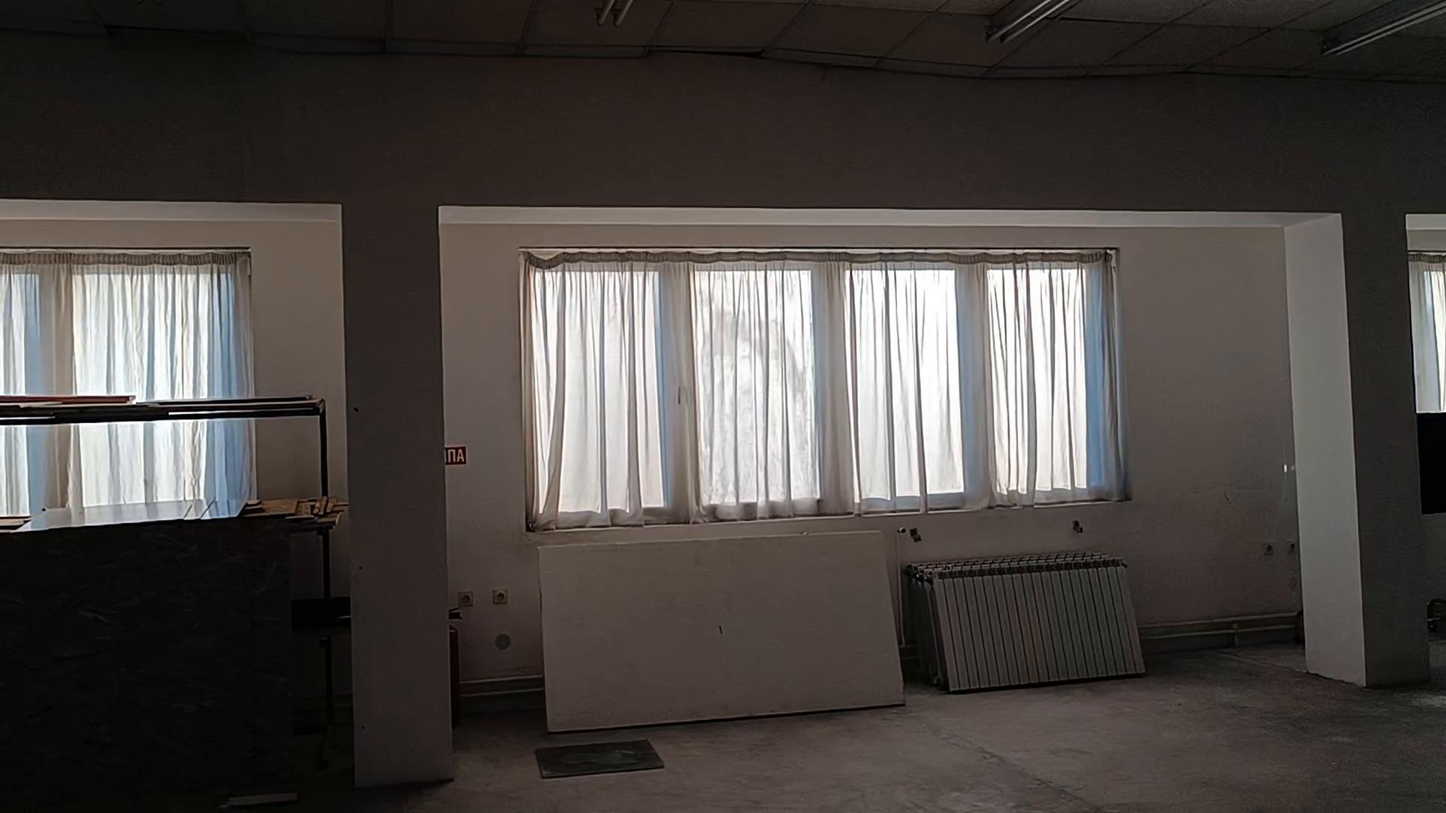ceiling: (0, 0, 1445, 81)
floor: (288, 641, 1445, 812)
wall: (0, 30, 1445, 786), (443, 206, 1356, 679), (1, 201, 344, 499)
